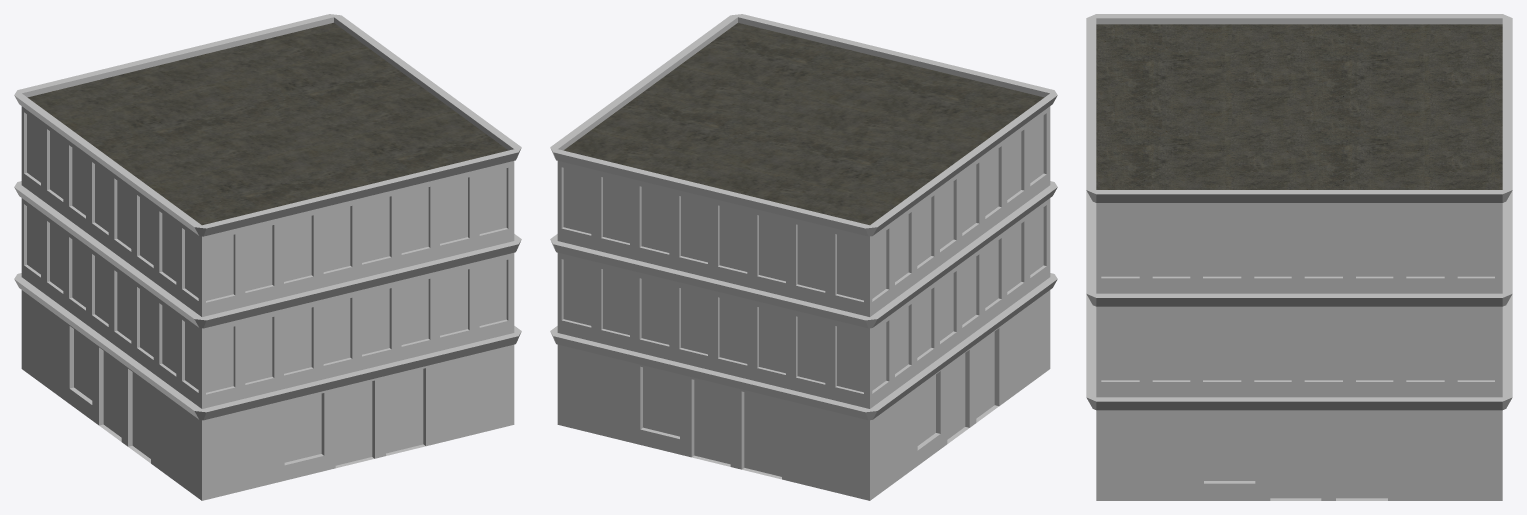
The model's file is DT_Building_Type_03_03.fbx.
3 views of the same model, side by side, from view 1: azimuth 30°, elevation 25°; view 2: azimuth 150°, elevation 25°; view 3: azimuth 270°, elevation 25° (orthographic). The views are drawn at different scales.
Parts seen in each view (by area): view 1: DT_Building_Type_03_03; view 2: DT_Building_Type_03_03; view 3: DT_Building_Type_03_03.
Part boxes in pixels (<box>): DT_Building_Type_03_03: <box>14,14,521,500</box>; DT_Building_Type_03_03: <box>550,14,1057,500</box>; DT_Building_Type_03_03: <box>1086,14,1512,500</box>.
Bounding box in the file's own units: 1074 × 864 × 1074.
